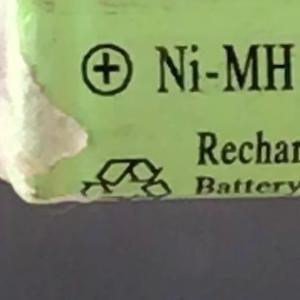NI-MH: (145, 34, 296, 103)
